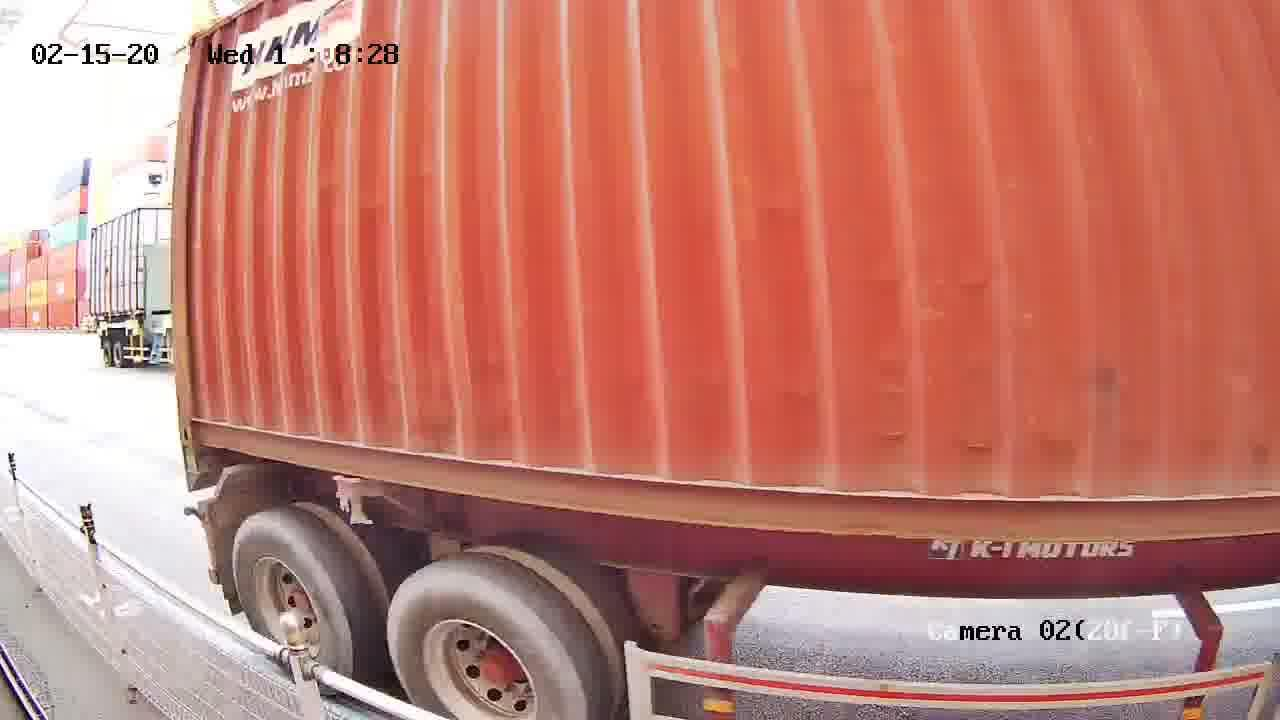Cone: (183, 447, 209, 473)
Hole_L: (175, 388, 239, 448)
Tire: (384, 572, 591, 719), (231, 518, 364, 680)
